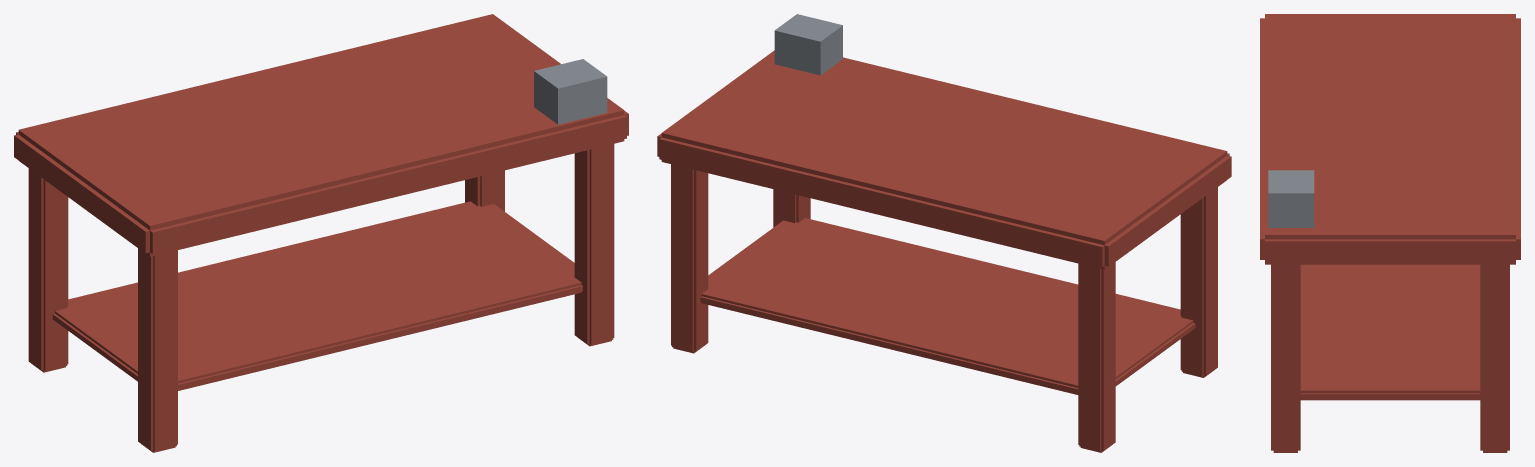
The model's file is rich_mahogany_workbench_v0.glb.
The picture shows the model from 3 angles, left to right: view 1: azimuth 30°, elevation 25°; view 2: azimuth 150°, elevation 25°; view 3: azimuth 270°, elevation 25°; orthographic projection. The views are drawn at different scales.
Parts seen in each view (by area): view 1: rich_mahogany_workbench_v0; view 2: rich_mahogany_workbench_v0; view 3: rich_mahogany_workbench_v0.
Boxes of the visible parts, x1,y1,x2,y2 form: rich_mahogany_workbench_v0: (14, 14, 628, 452); rich_mahogany_workbench_v0: (657, 14, 1231, 452); rich_mahogany_workbench_v0: (1260, 14, 1520, 452).
Size of the model in its own units: 1.96 by 1.04 by 0.96.
